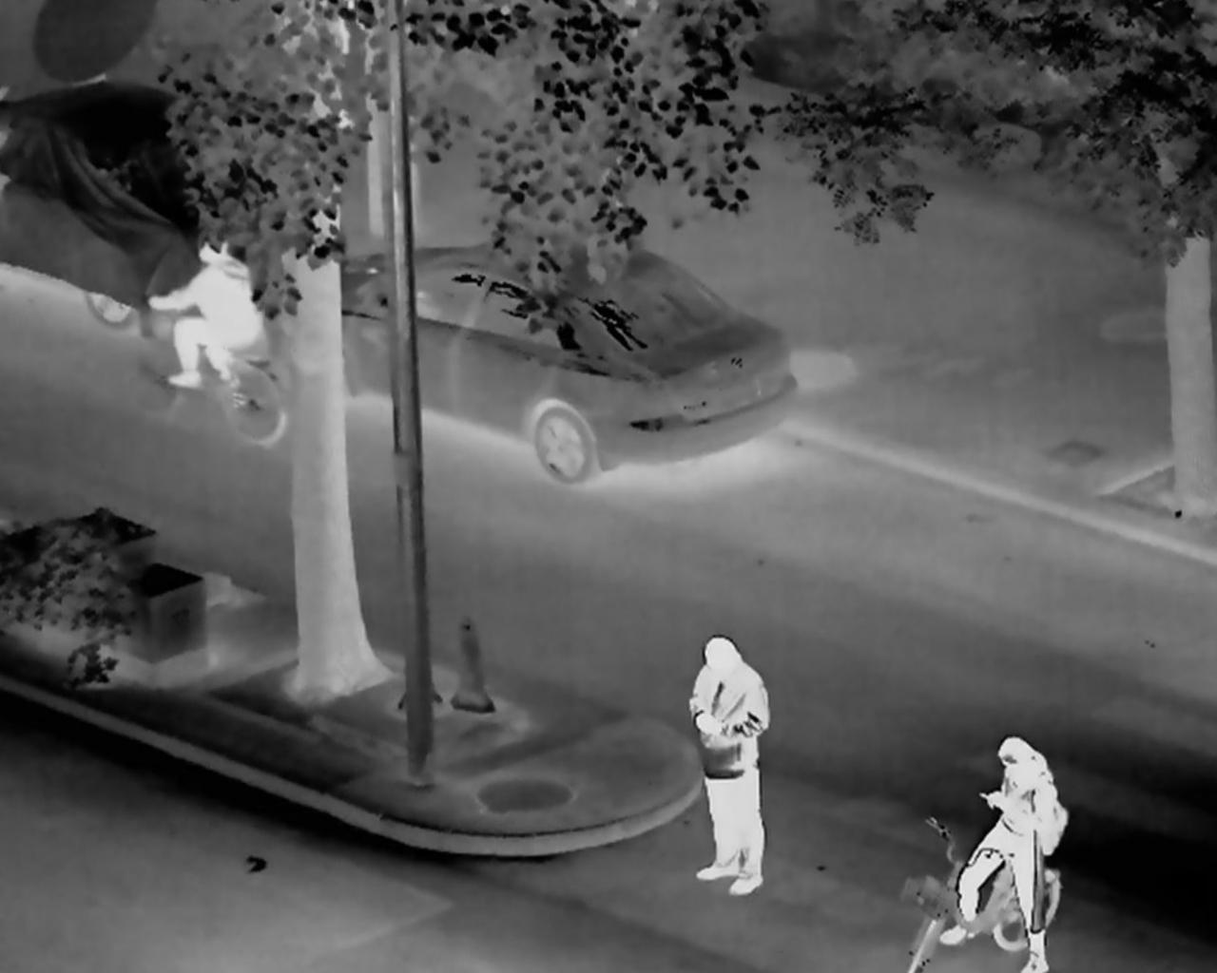person: (939, 737, 1063, 973), (687, 639, 772, 898), (147, 231, 265, 392)
